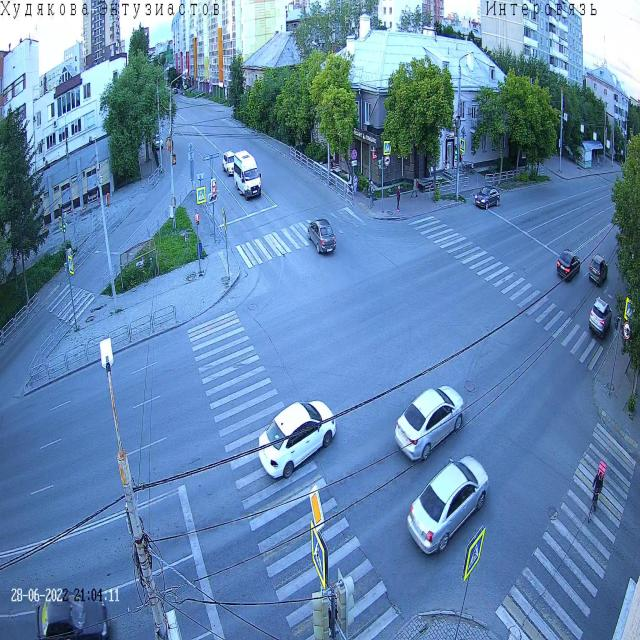bicycle: (588, 458, 607, 522)
car: (406, 454, 489, 556), (258, 399, 337, 480), (394, 383, 466, 464), (35, 588, 110, 640), (588, 295, 612, 340), (308, 218, 337, 255), (556, 248, 581, 283), (588, 253, 608, 288), (474, 185, 500, 210), (222, 150, 239, 178), (152, 133, 164, 150)
pedestrian: (368, 180, 375, 208), (396, 184, 402, 214), (346, 173, 353, 196), (352, 172, 358, 196), (412, 176, 418, 198), (598, 156, 600, 169)
shuttle_taxi: (233, 149, 262, 201)
